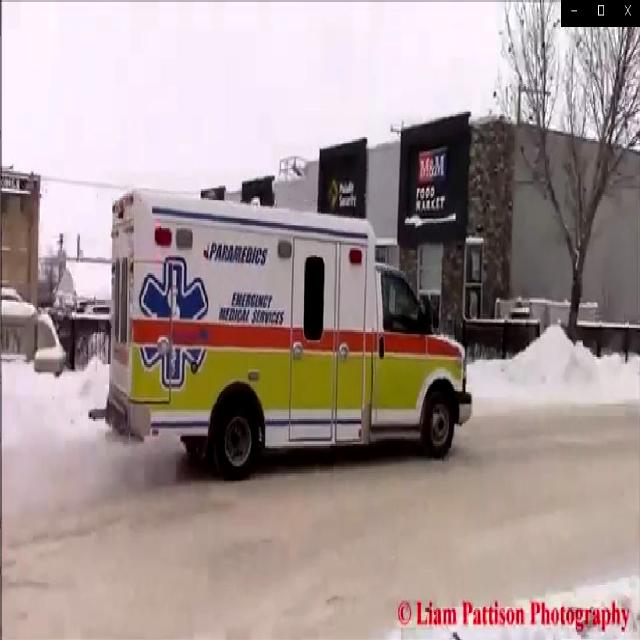emergency: (101, 188, 473, 473)
